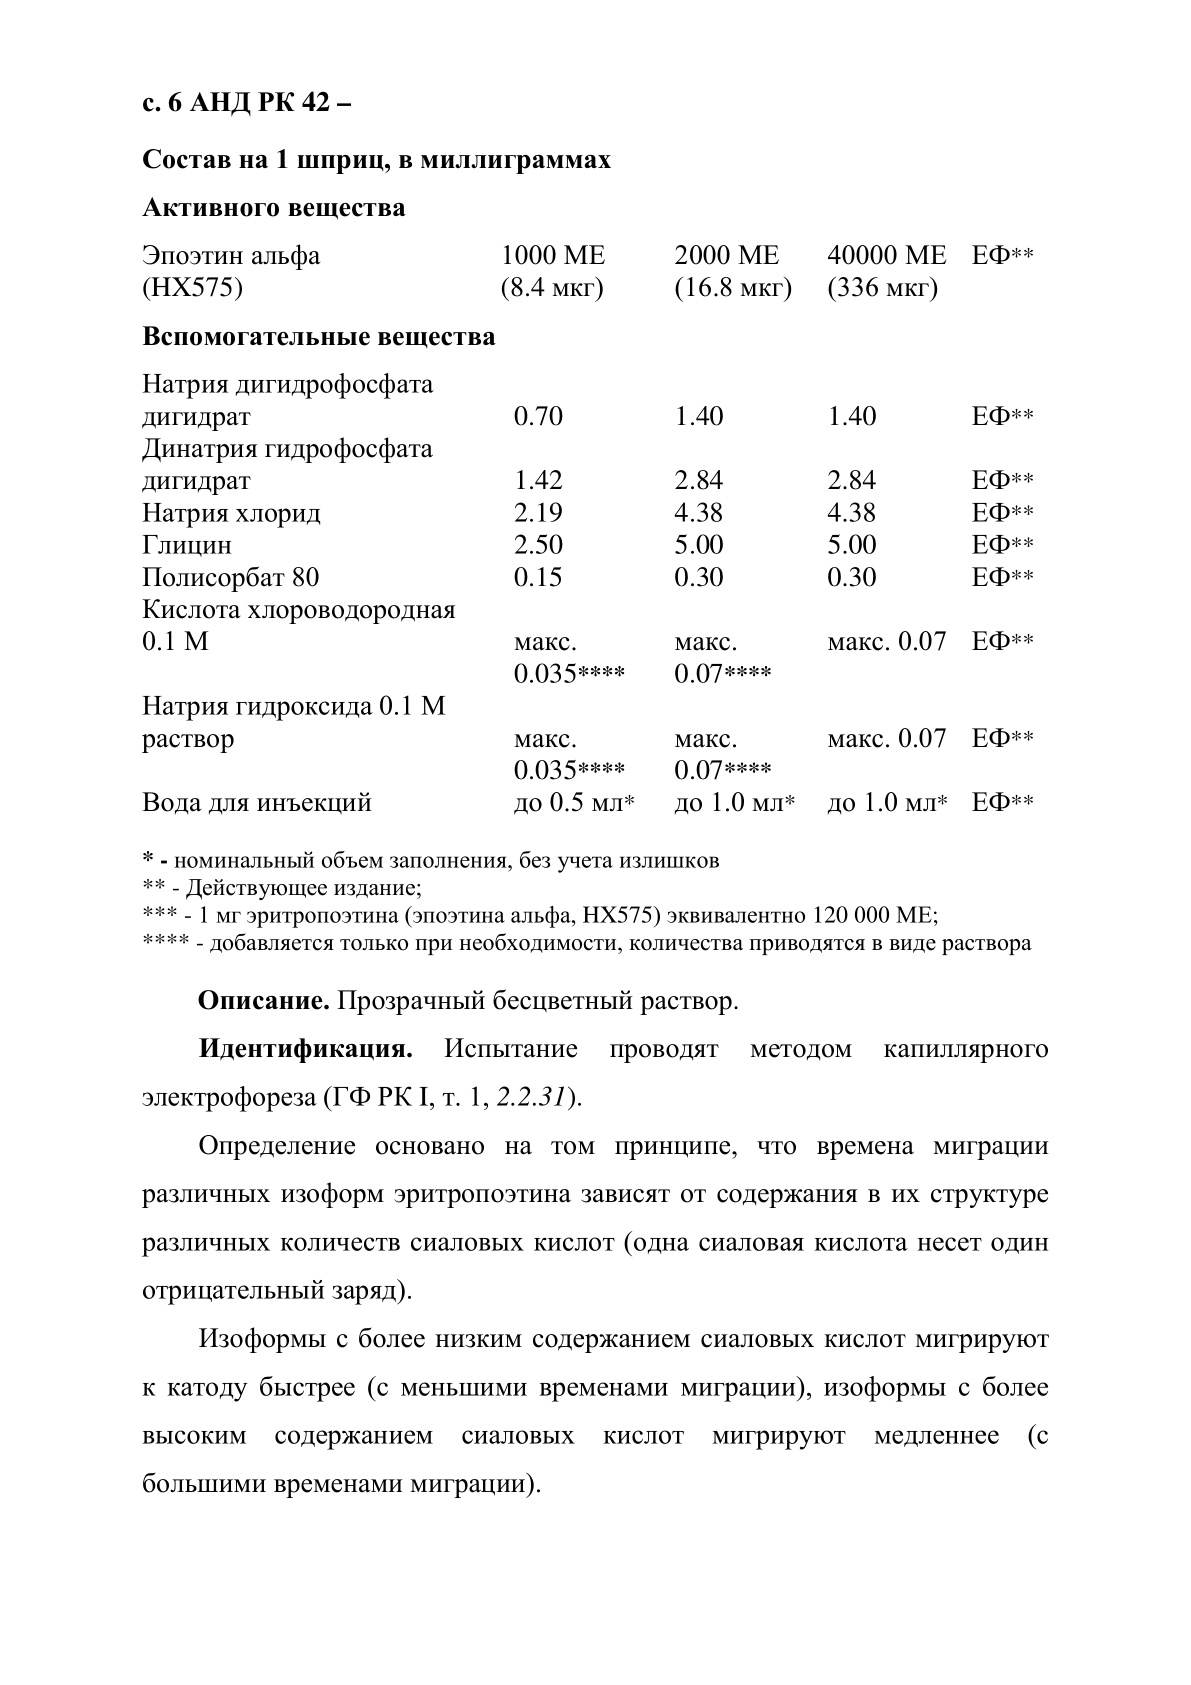nolines: (137, 195, 1040, 821)
